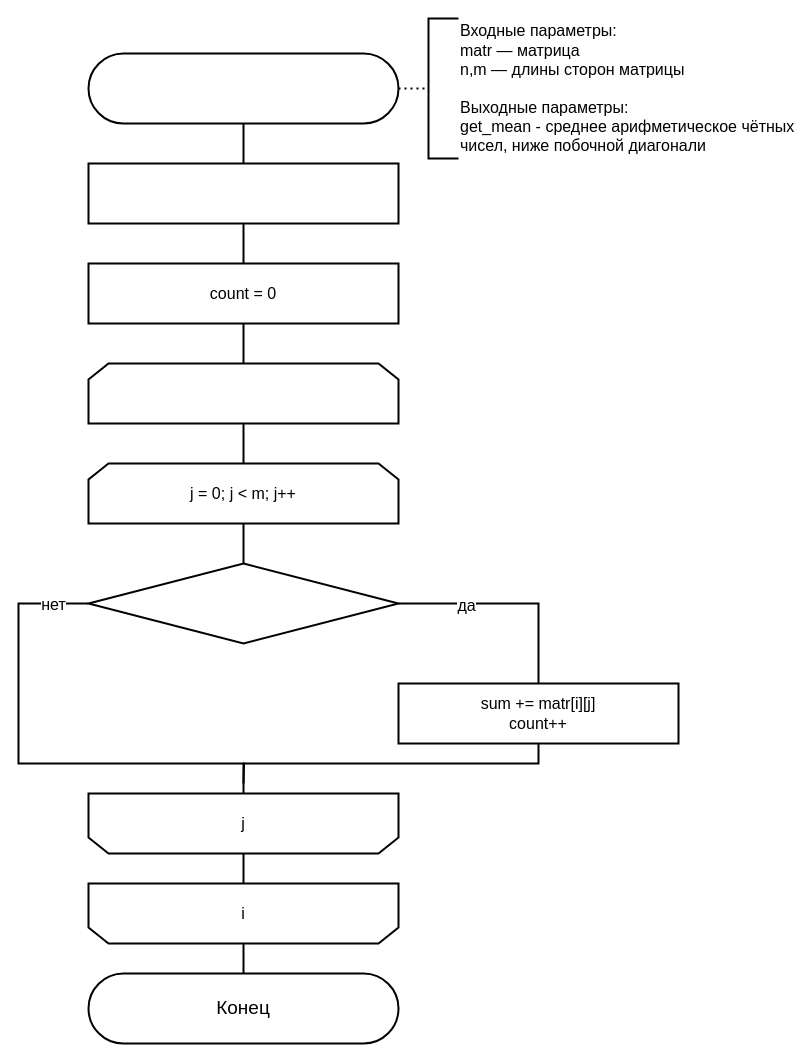
Some shapes in this 811 by 1061 pixel diagram are drawn without their labels. The shapes that lost their labels are listed below. From the top down, each one's box as (x1, y1, x2, y2) in pixels, then its label:
(87, 52, 399, 124): get_mean
(87, 162, 399, 224): sum = 0
(87, 362, 399, 424): i = 0; i < n; i++
(87, 562, 399, 644): i + j > n И matr[i][j] % 2 == 0
